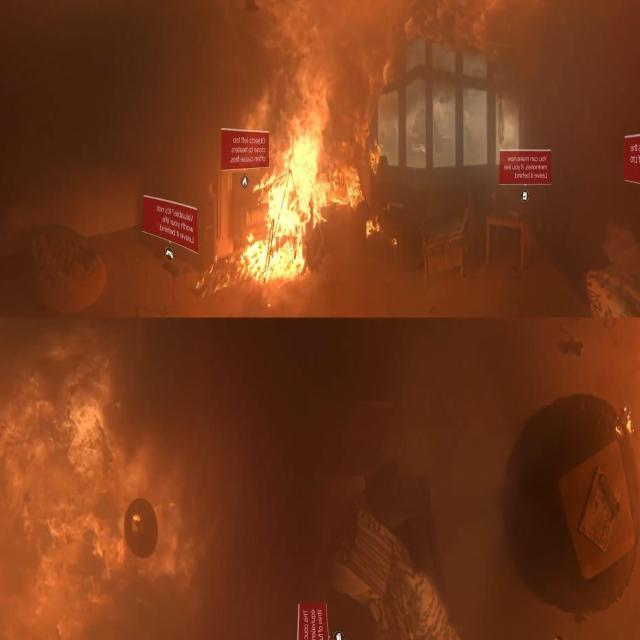smoke: (614, 394, 636, 444)
